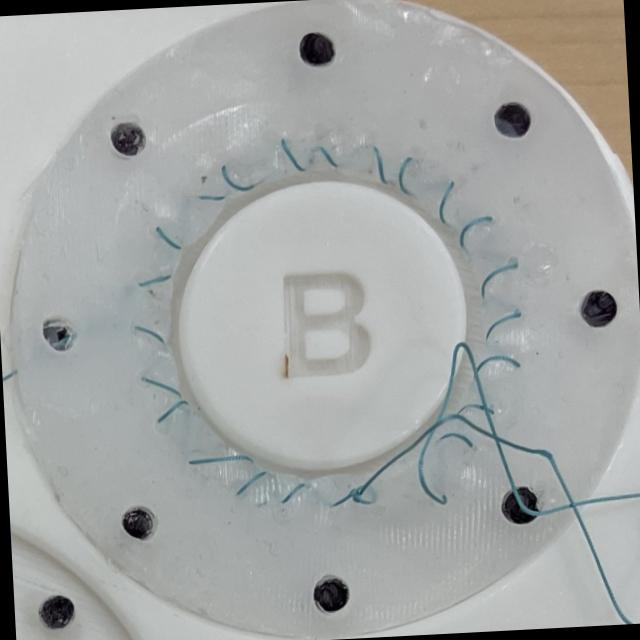suture: (354, 415, 637, 624), (481, 264, 518, 298), (487, 309, 522, 342), (474, 355, 521, 379), (460, 217, 493, 248), (141, 378, 182, 399), (281, 138, 307, 171), (223, 165, 254, 191), (157, 399, 188, 424), (237, 471, 266, 496), (188, 455, 254, 465), (439, 180, 454, 224), (373, 146, 389, 184), (157, 227, 181, 249), (399, 157, 413, 194), (135, 326, 165, 343), (456, 403, 495, 416), (281, 483, 305, 504), (439, 433, 474, 447), (138, 274, 172, 288), (333, 488, 358, 506), (318, 147, 339, 168), (197, 195, 226, 200)
